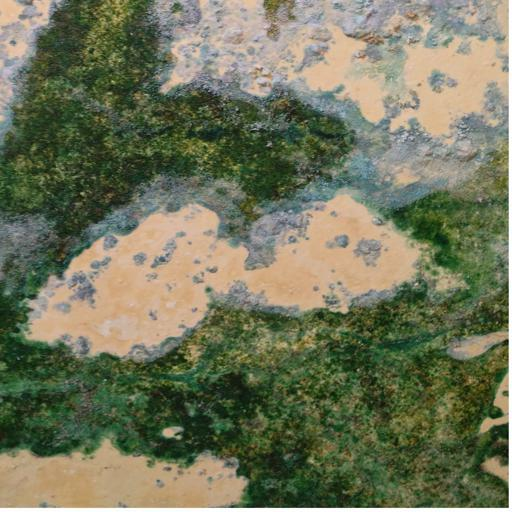algae: (3, 6, 512, 511)
